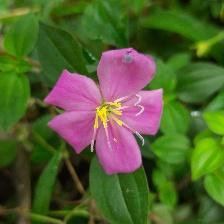malabar melastome: (44, 48, 173, 177)
